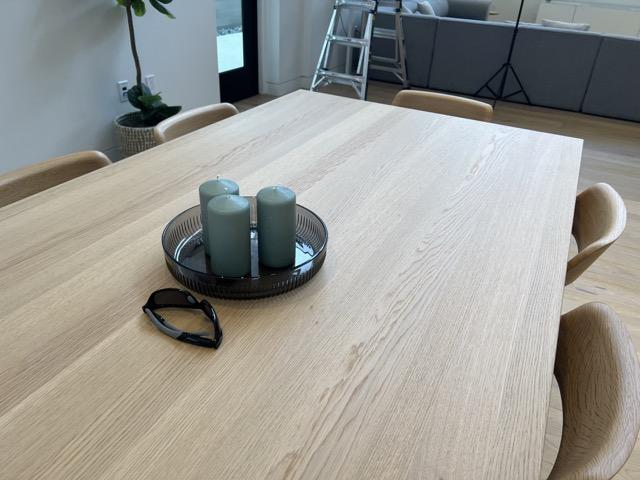Sunglasses: (143, 286, 223, 352)
